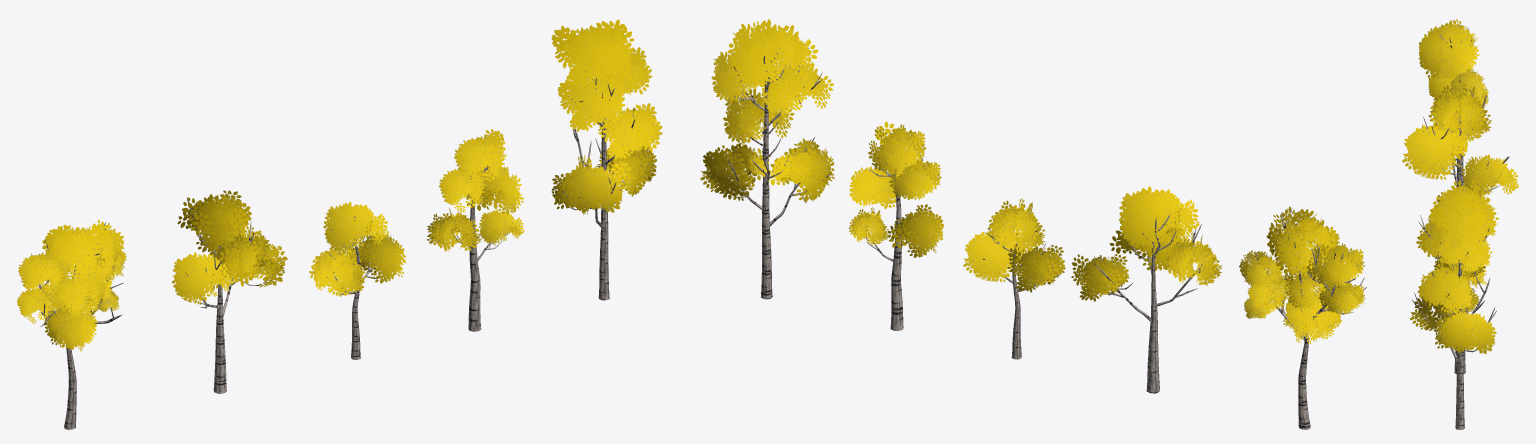
Rendered from Birch_Trees.glb.
The picture shows the model from 3 angles, left to right: view 1: azimuth 30°, elevation 25°; view 2: azimuth 150°, elevation 25°; view 3: azimuth 270°, elevation 25°; orthographic projection. The views are drawn at different scales.
Parts seen in each view (by area): view 1: BirchTree_2, BirchTree_3, BirchTree_5, BirchTree_1, BirchTree_4; view 2: BirchTree_2, BirchTree_3, BirchTree_5, BirchTree_1, BirchTree_4; view 3: BirchTree_2, BirchTree_5, BirchTree_3, BirchTree_1.
Part boxes in pixels (x1,y1,x2,y2): BirchTree_2: (551,19,662,300); BirchTree_3: (17,220,126,429); BirchTree_5: (171,190,287,393); BirchTree_1: (427,129,524,331); BirchTree_4: (309,201,406,359); BirchTree_2: (700,19,834,299); BirchTree_3: (1239,206,1366,429); BirchTree_5: (1071,186,1221,393); BirchTree_1: (848,121,943,330); BirchTree_4: (963,198,1065,359); BirchTree_2: (1410,178,1498,429); BirchTree_5: (1402,81,1518,196); BirchTree_3: (1418,19,1488,190); BirchTree_1: (1425,201,1486,374).
Bounding box in the file's own units: 18.56 × 7.57 × 3.51.
Materials: 2 (2 with a texture image).
